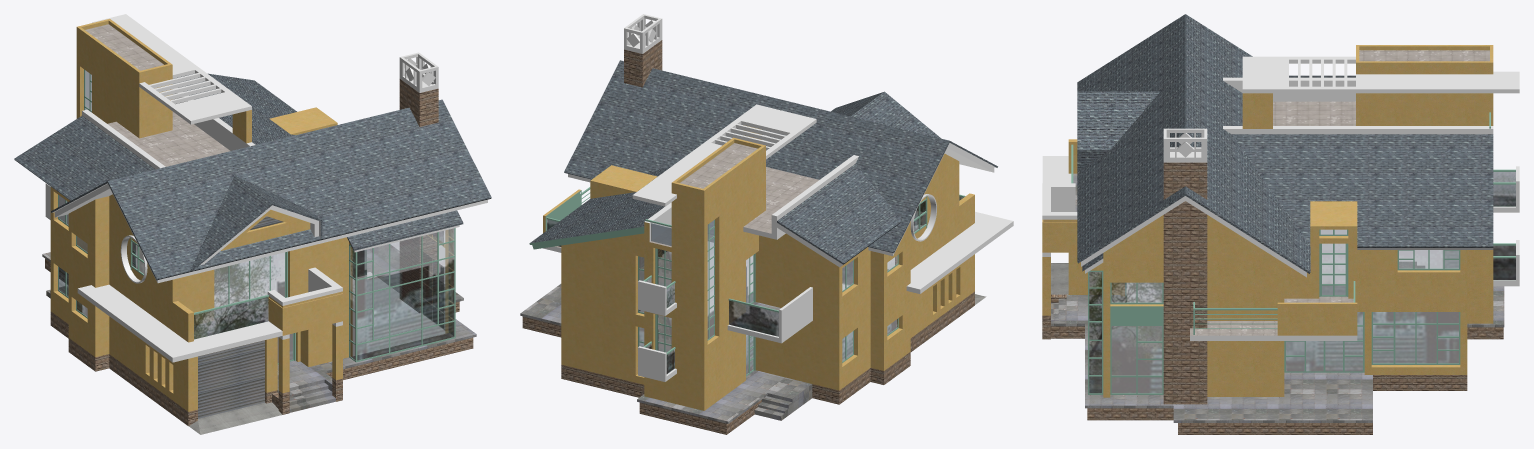
The picture shows the model from 3 angles, left to right: view 1: azimuth 30°, elevation 25°; view 2: azimuth 150°, elevation 25°; view 3: azimuth 270°, elevation 25°; orthographic projection. The views are drawn at different scales.
Visible parts, largest first — view 1: Mesh9 Model, Mesh1 Group1 Model; view 2: Mesh9 Model, Mesh1 Group1 Model, Mesh6 Door_s1 Model, Mesh8 Door_s2 Model; view 3: Mesh9 Model.
Boxes of the visible parts, bbox=[...] form: Mesh9 Model: bbox=[14, 14, 491, 434]; Mesh1 Group1 Model: bbox=[120, 235, 147, 283]; Mesh9 Model: bbox=[520, 14, 1013, 434]; Mesh1 Group1 Model: bbox=[910, 194, 936, 241]; Mesh6 Door_s1 Model: bbox=[656, 248, 671, 298]; Mesh8 Door_s2 Model: bbox=[656, 314, 671, 364]; Mesh9 Model: bbox=[1042, 14, 1519, 434].
Bounding box in the file's own units: 15340 × 10700 × 16440.
10 materials, 8 textured.
